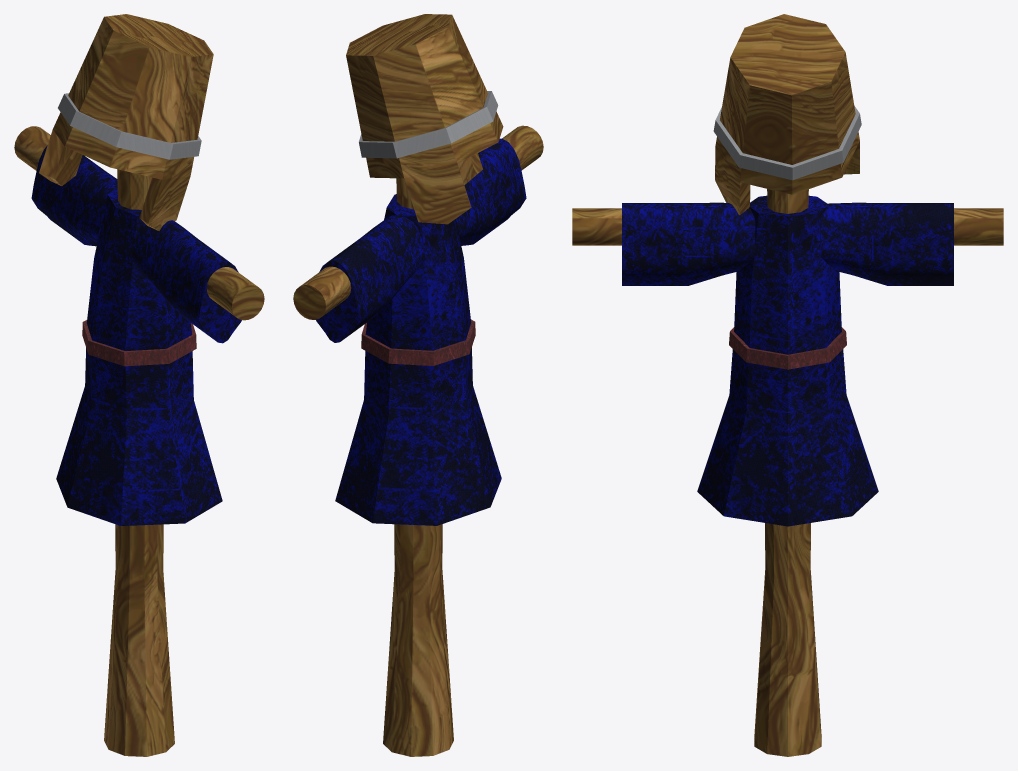
Rendered from ScareCrow2.fbx.
3 renders of one model, left to right at view 1: azimuth 30°, elevation 25°; view 2: azimuth 150°, elevation 25°; view 3: azimuth 270°, elevation 25°, orthographic.
Parts seen in each view (by area): view 1: ScareCrow2; view 2: ScareCrow2; view 3: ScareCrow2.
Boxes of the visible parts, <box> form: ScareCrow2: <box>14,14,264,756</box>; ScareCrow2: <box>293,14,543,756</box>; ScareCrow2: <box>572,14,1003,756</box>.
Bounding box in the file's own units: 1.22 × 5.63 × 3.08.
